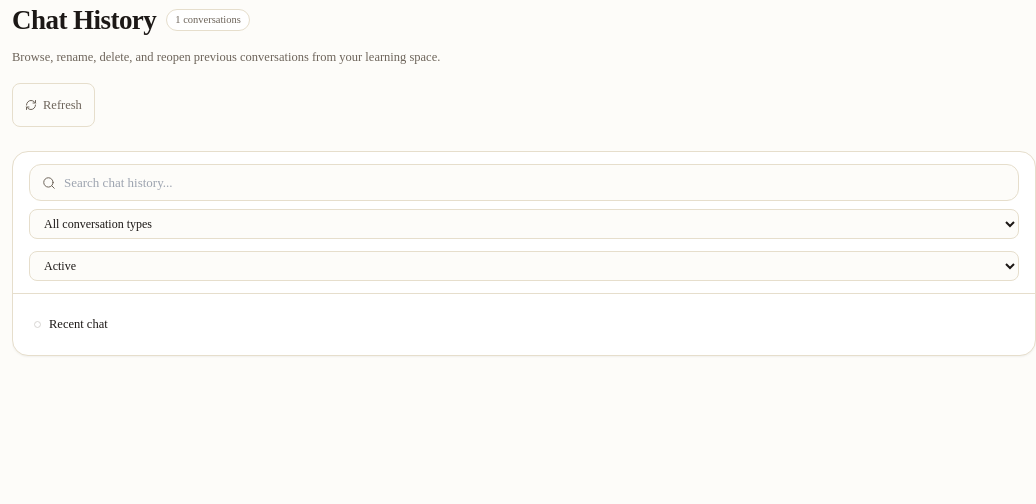
Test: cancels a stale search when the query changes
Type "Bay" into the field with placeholder "Search chat history...". click: (535, 183)
box: [64, 173, 1006, 192]
Wait 300 ms
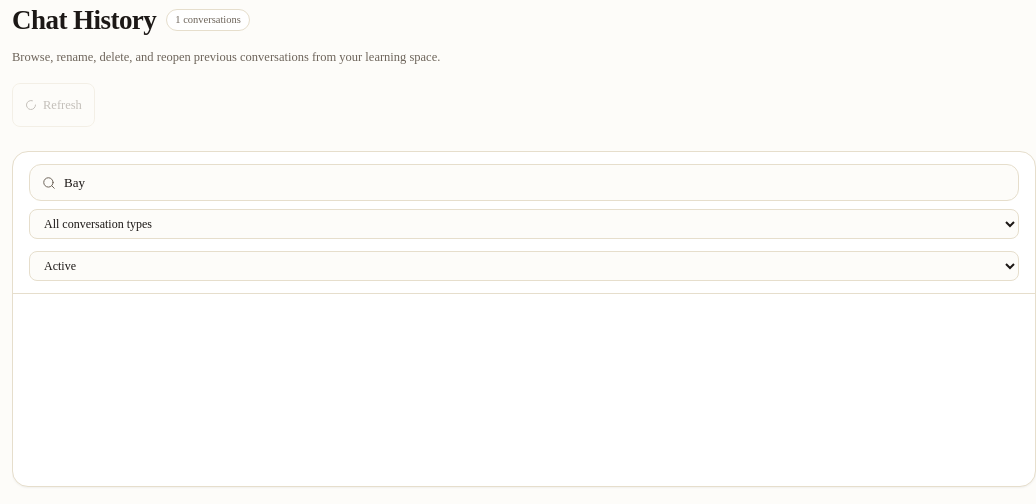
Replace the text in the field with placeholder "Search chat history..." with "Bayes". click: (535, 183)
box: [64, 173, 1006, 192]
Wait 300 ms
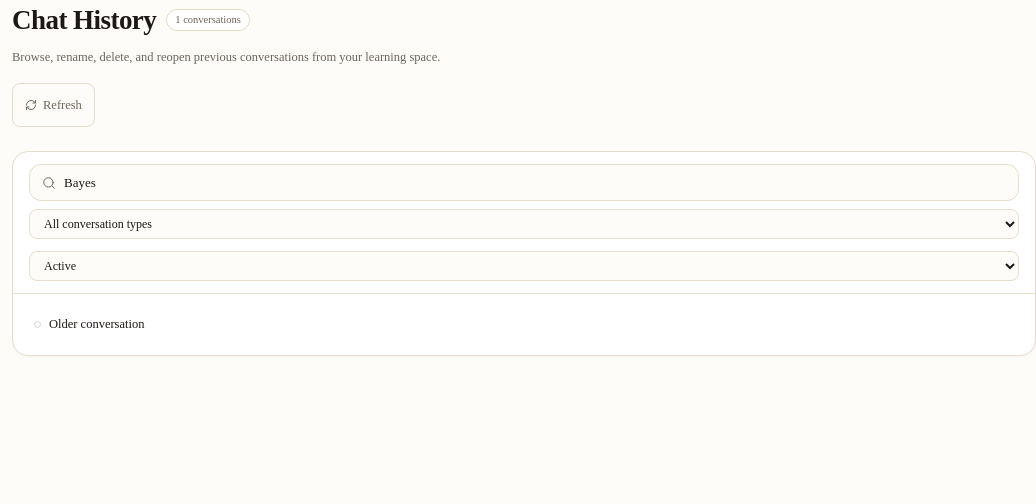
Expected: the text "Older conversation" is shown, [49, 317, 144, 331]
